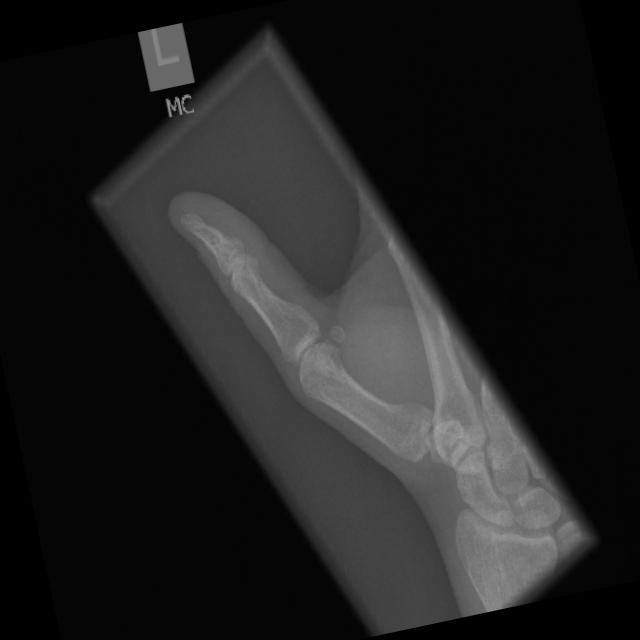fingers positive: (195, 211, 230, 256)
